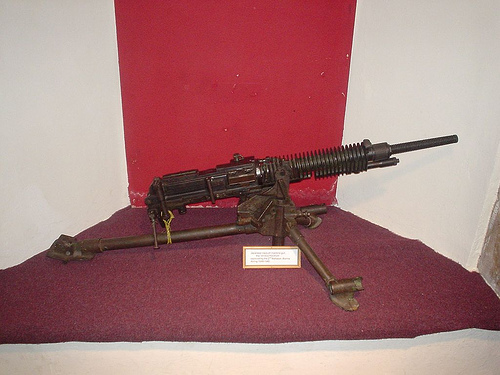rifle: (142, 127, 460, 224)
